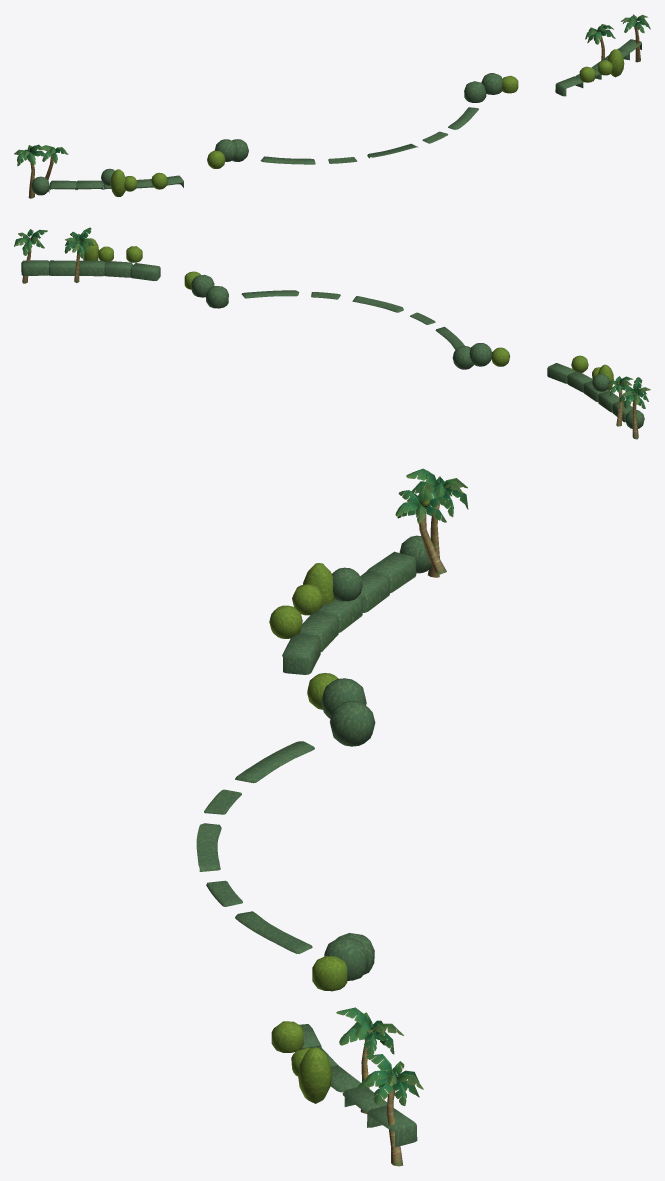
Rendered from pref_sm_beach_bk_pointmol_middletree_lv0.fbx.
The picture shows the model from 3 angles, top to bottom: view 1: azimuth 30°, elevation 25°; view 2: azimuth 150°, elevation 25°; view 3: azimuth 270°, elevation 25°; orthographic projection. The views are drawn at different scales.
Parts seen in each view (by area): view 1: pref_sm_beach_bk_pointmol_middletree_lv0; view 2: pref_sm_beach_bk_pointmol_middletree_lv0; view 3: pref_sm_beach_bk_pointmol_middletree_lv0.
Part boxes in pixels (left/top/right/bottom): pref_sm_beach_bk_pointmol_middletree_lv0: left=14, top=14, right=650, bottom=198; pref_sm_beach_bk_pointmol_middletree_lv0: left=14, top=227, right=650, bottom=439; pref_sm_beach_bk_pointmol_middletree_lv0: left=196, top=468, right=468, bottom=1166.
Bounding box in the file's own units: 98.24 × 8.65 × 18.65.
